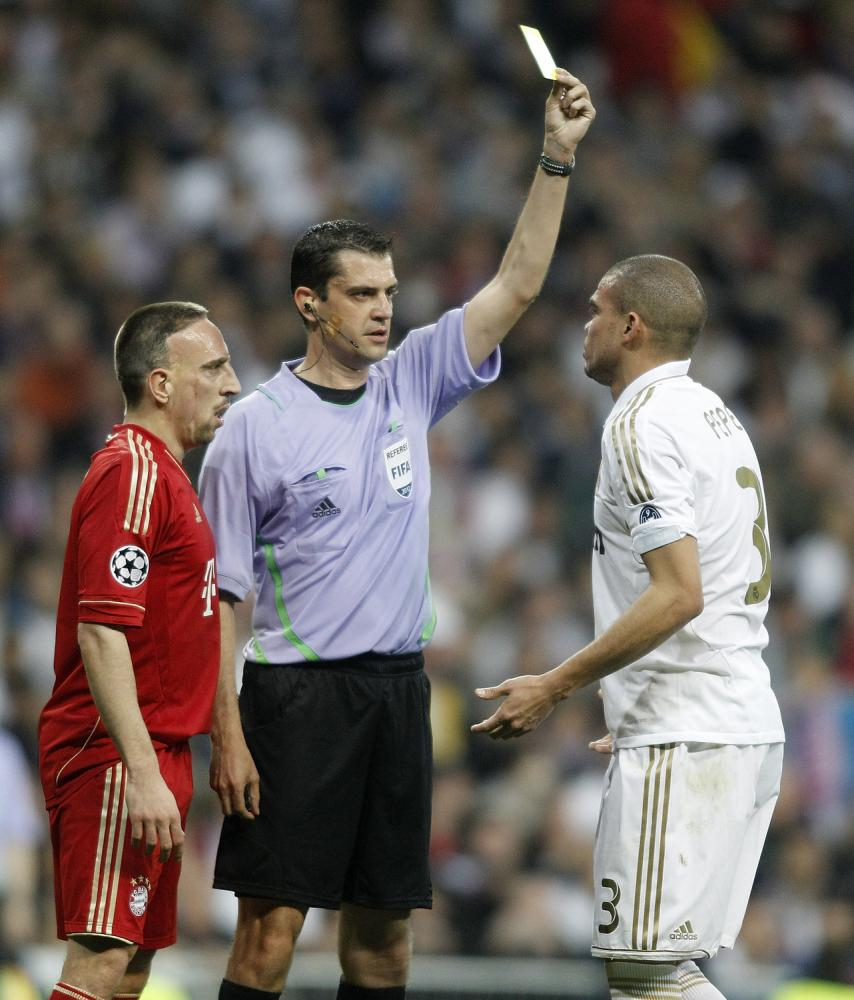yellow_card: (500, 17, 622, 153)
